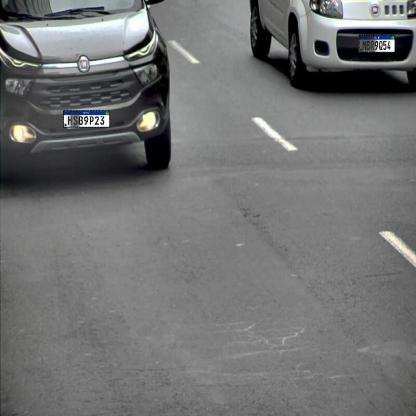PlacaM: (63, 110, 110, 128), (359, 35, 395, 52)
